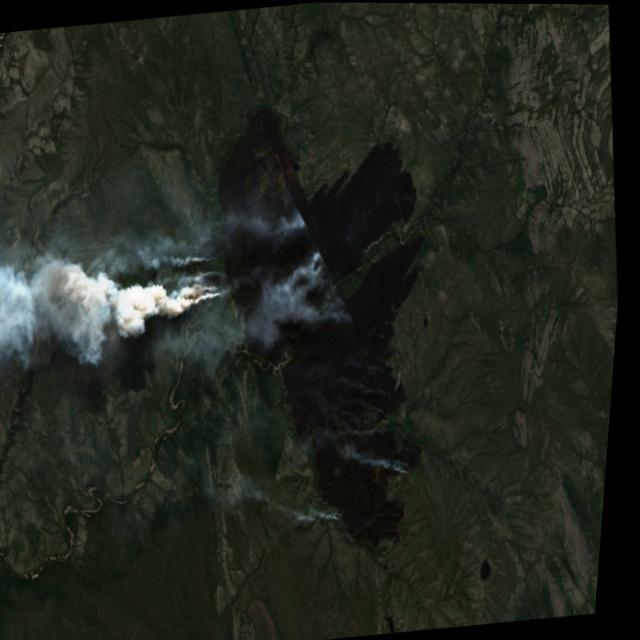fire: (172, 215, 240, 314), (378, 440, 429, 485)
